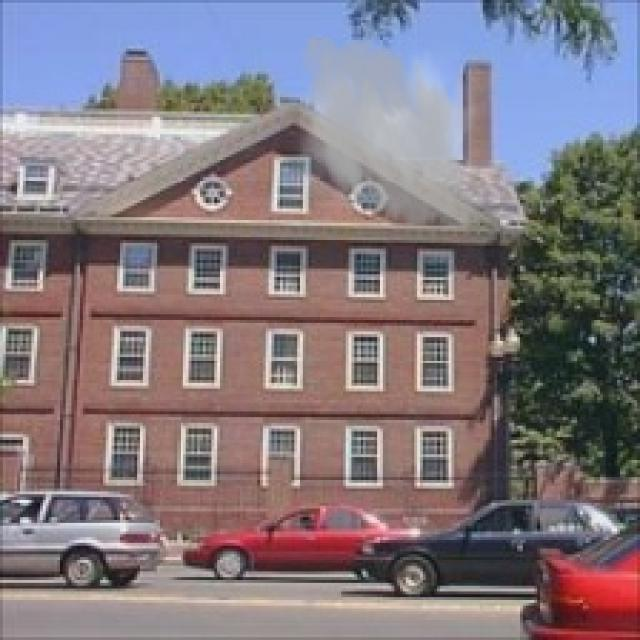Smoke: (283, 26, 488, 240)
